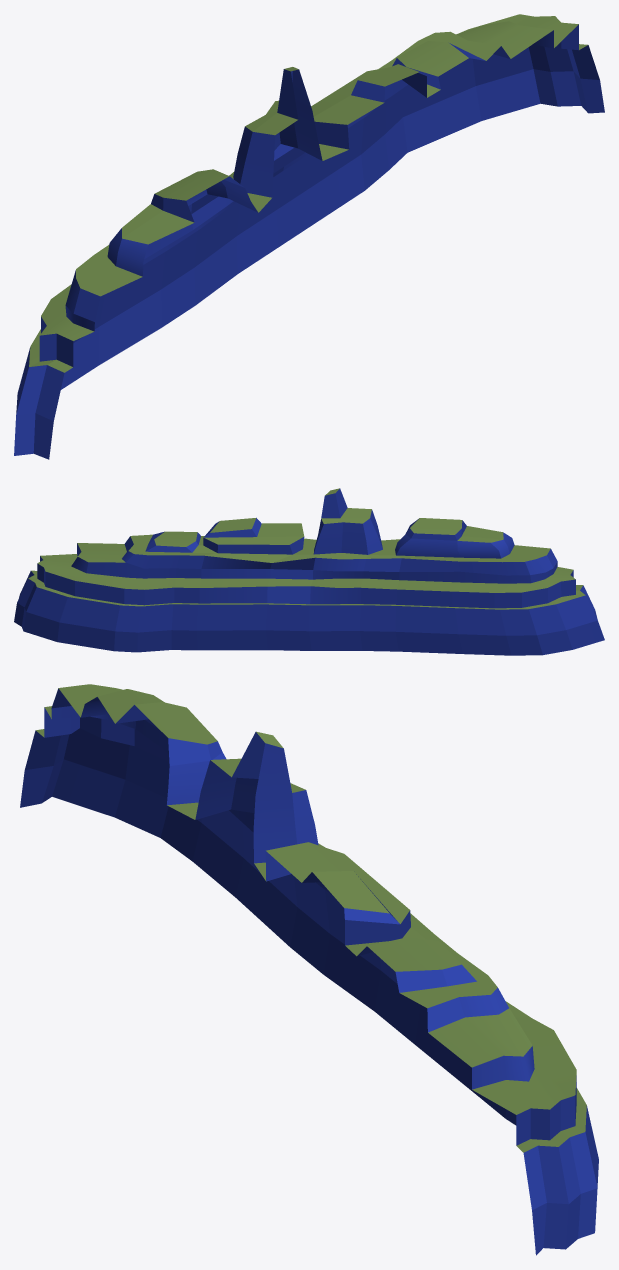
File: StartMenu_CanyonModel.fbx
3 renders of one model, top to bottom at view 1: azimuth 30°, elevation 25°; view 2: azimuth 150°, elevation 25°; view 3: azimuth 270°, elevation 25°, orthographic. The views are drawn at different scales.
Visible parts, largest first — view 1: polySurface8; view 2: polySurface8; view 3: polySurface8.
Part boxes in pixels (x1,y1,x2,y2): polySurface8: [14, 14, 604, 459]; polySurface8: [14, 488, 604, 655]; polySurface8: [20, 684, 598, 1255].
Size of the model in its own units: 412 by 120 by 220.
